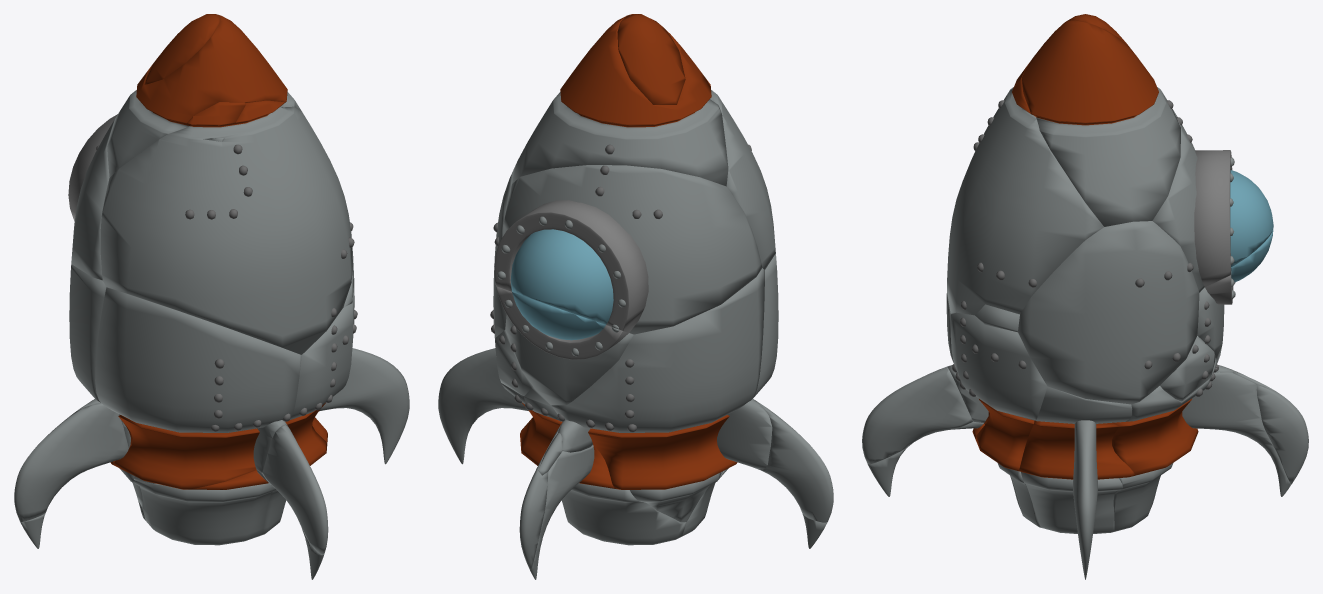
The model's file is Ship Grey Red Fractured.fbx.
3 views of the same model, side by side, from view 1: azimuth 30°, elevation 25°; view 2: azimuth 150°, elevation 25°; view 3: azimuth 270°, elevation 25° (orthographic). The views are drawn at different scales.
Visible parts, largest first — view 1: Body_shard, Body_shard.006, Body_shard.001, Body_shard.012, Body_shard.005, Body_shard.011, Body_shard.009, Body_shard.014, Body_shard.013, Body_shard.008, Body_shard.010, Body_shard.003; view 2: Body_shard.009, Body_shard.013, Body_shard.001, Body_shard.004, Body_shard.015, Body_shard.006, Body_shard.011, Body_shard.008, Body_shard, Body_shard.002, Body_shard.007, Body_shard.012; view 3: Body_shard.007, Body_shard.001, Body_shard, Body_shard.011, Body_shard.004, Body_shard.009, Body_shard.005, Body_shard.014, Body_shard.002, Body_shard.015, Body_shard.012, Body_shard.006 (+2 smaller).
Boxes of the visible parts, x1,y1,x2,y2 form: Body_shard: [100, 100, 354, 354]; Body_shard.006: [14, 287, 301, 521]; Body_shard.001: [107, 15, 301, 177]; Body_shard.012: [20, 470, 324, 579]; Body_shard.005: [285, 288, 357, 465]; Body_shard.011: [312, 348, 409, 464]; Body_shard.009: [68, 114, 117, 280]; Body_shard.014: [262, 424, 328, 554]; Body_shard.013: [69, 264, 142, 508]; Body_shard.008: [144, 14, 220, 84]; Body_shard.010: [186, 102, 245, 141]; Body_shard.003: [261, 490, 286, 535]; Body_shard.009: [494, 165, 762, 334]; Body_shard.013: [551, 268, 772, 522]; Body_shard.001: [512, 14, 728, 186]; Body_shard.004: [501, 383, 686, 579]; Body_shard.015: [496, 286, 633, 475]; Body_shard.006: [720, 252, 833, 522]; Body_shard.011: [438, 348, 533, 464]; Body_shard.008: [617, 14, 685, 104]; Body_shard: [710, 90, 775, 269]; Body_shard.002: [495, 330, 547, 569]; Body_shard.007: [490, 171, 512, 342]; Body_shard.012: [681, 468, 827, 548]; Body_shard.007: [1018, 221, 1199, 404]; Body_shard.001: [1021, 20, 1180, 226]; Body_shard: [947, 79, 1103, 315]; Body_shard.011: [1018, 386, 1134, 579]; Body_shard.004: [1112, 358, 1291, 531]; Body_shard.009: [1152, 109, 1273, 292]; Body_shard.005: [950, 312, 1047, 470]; Body_shard.014: [862, 366, 972, 464]; Body_shard.002: [1160, 336, 1308, 483]; Body_shard.015: [1197, 229, 1275, 391]; Body_shard.012: [867, 421, 1020, 510]; Body_shard.006: [946, 293, 989, 424].
Bounding box in the file's own units: 417 × 509 × 417.
